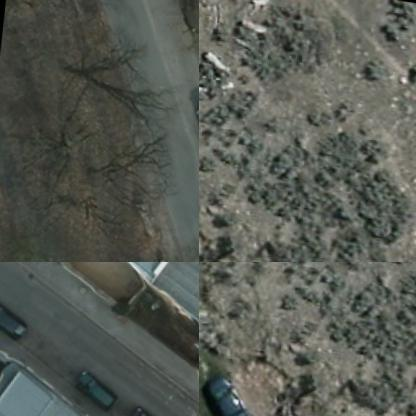car: (204, 369, 266, 415), (68, 370, 120, 405), (0, 292, 32, 341), (125, 402, 167, 415)
